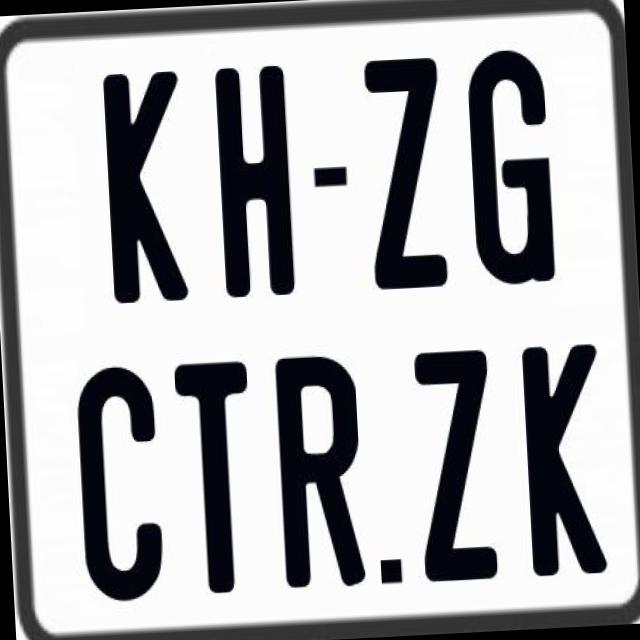C: (76, 366, 168, 602)
G: (466, 45, 560, 288)
H: (213, 62, 296, 300)
K: (99, 71, 191, 307), (518, 339, 608, 575)
R: (271, 350, 362, 594)
T: (170, 356, 261, 598)
Z: (362, 54, 453, 296), (412, 346, 496, 578)
